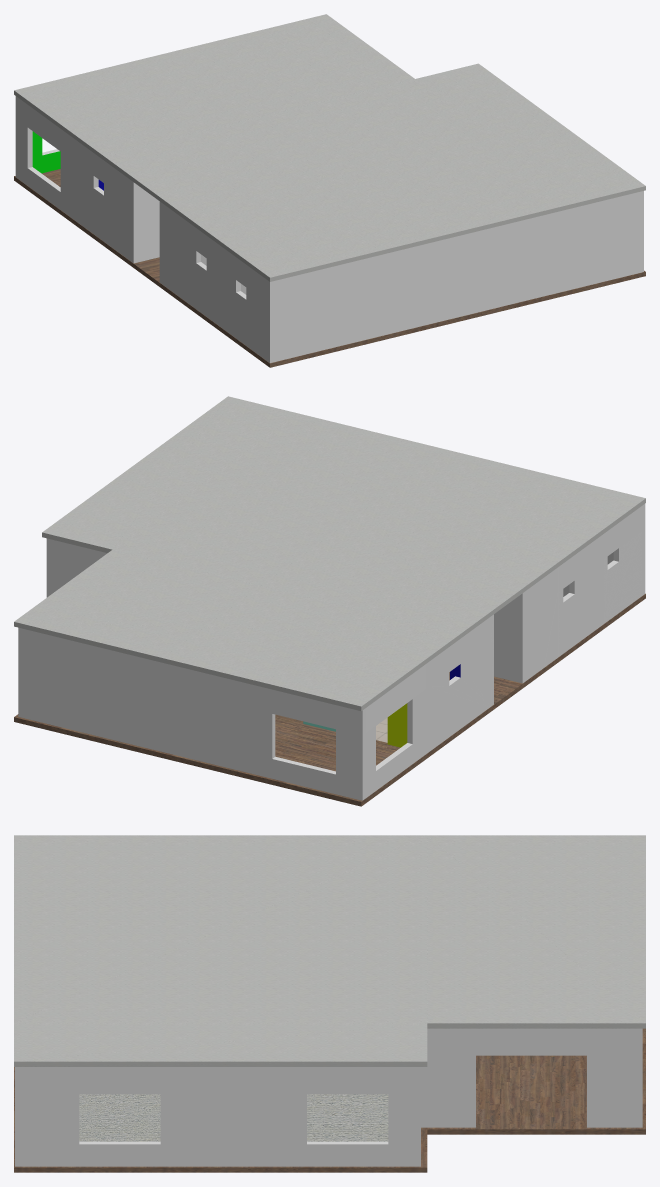
The model's file is G_P_room1.fbx.
3 renders of one model, top to bottom at view 1: azimuth 30°, elevation 25°; view 2: azimuth 150°, elevation 25°; view 3: azimuth 270°, elevation 25°, orthographic. The views are drawn at different scales.
Visible parts, largest first — view 1: Decke, Waende, Boden; view 2: Decke, Waende, Boden; view 3: Decke, Waende, Boden, boden_klschlaf, boden_grschlaf.
Part boxes in pixels (x1,y1,x2,y2): Decke: [14, 14, 645, 281]; Waende: [15, 96, 643, 362]; Boden: [14, 169, 645, 367]; Decke: [14, 396, 645, 711]; Waende: [18, 504, 645, 800]; Boden: [14, 593, 645, 806]; Decke: [14, 835, 645, 1066]; Waende: [15, 1028, 642, 1166]; Boden: [14, 1028, 645, 1172]; boden_klschlaf: [307, 1094, 388, 1141]; boden_grschlaf: [79, 1094, 160, 1141].
Bounding box in the file's own units: 1432 × 328 × 1689.
